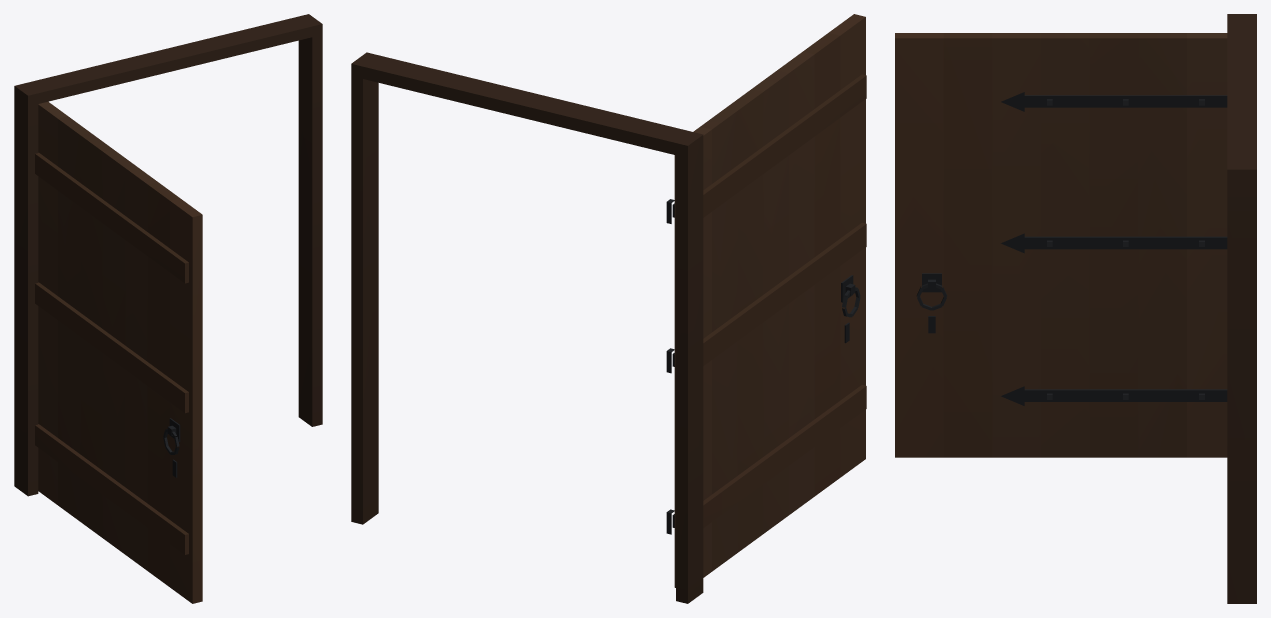
The model's file is door.oak_open.dark.glb.
The picture shows the model from 3 angles, left to right: view 1: azimuth 30°, elevation 25°; view 2: azimuth 150°, elevation 25°; view 3: azimuth 270°, elevation 25°; orthographic projection. The views are drawn at different scales.
Parts seen in each view (by area): view 1: door_oak_open_dark; view 2: door_oak_open_dark; view 3: door_oak_open_dark.
Boxes of the visible parts, x1,y1,x2,y2 form: door_oak_open_dark: [14, 14, 322, 603]; door_oak_open_dark: [351, 14, 866, 603]; door_oak_open_dark: [895, 14, 1256, 603].
Size of what is drawn, in the model's own units: 2 by 2.6 by 1.96.
